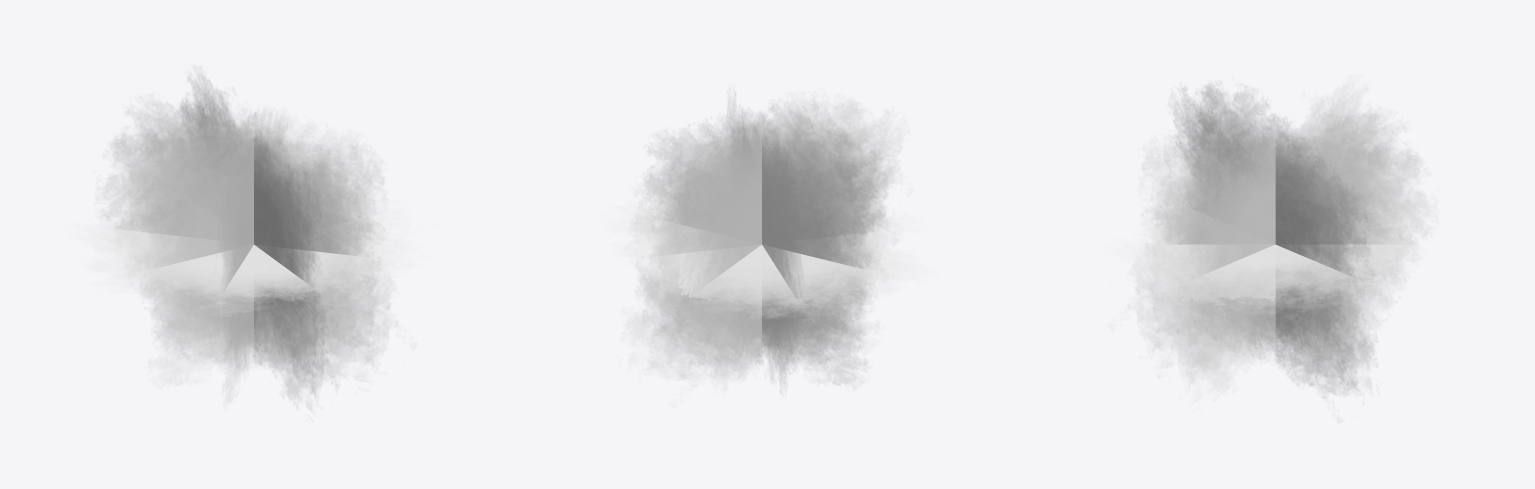
The model's file is cloudx2.glb.
3 views of the same model, side by side, from view 1: azimuth 30°, elevation 25°; view 2: azimuth 150°, elevation 25°; view 3: azimuth 270°, elevation 25° (orthographic).
Parts seen in each view (by area): view 1: cloud; view 2: cloud; view 3: cloud.
Boxes of the visible parts, x1,y1,x2,y2 form: cloud: [74, 74, 423, 408]; cloud: [601, 93, 928, 392]; cloud: [1114, 83, 1436, 399].
Bounding box in the file's own units: 1.41 × 1 × 1.41.
Materials: 1 (1 with a texture image).
